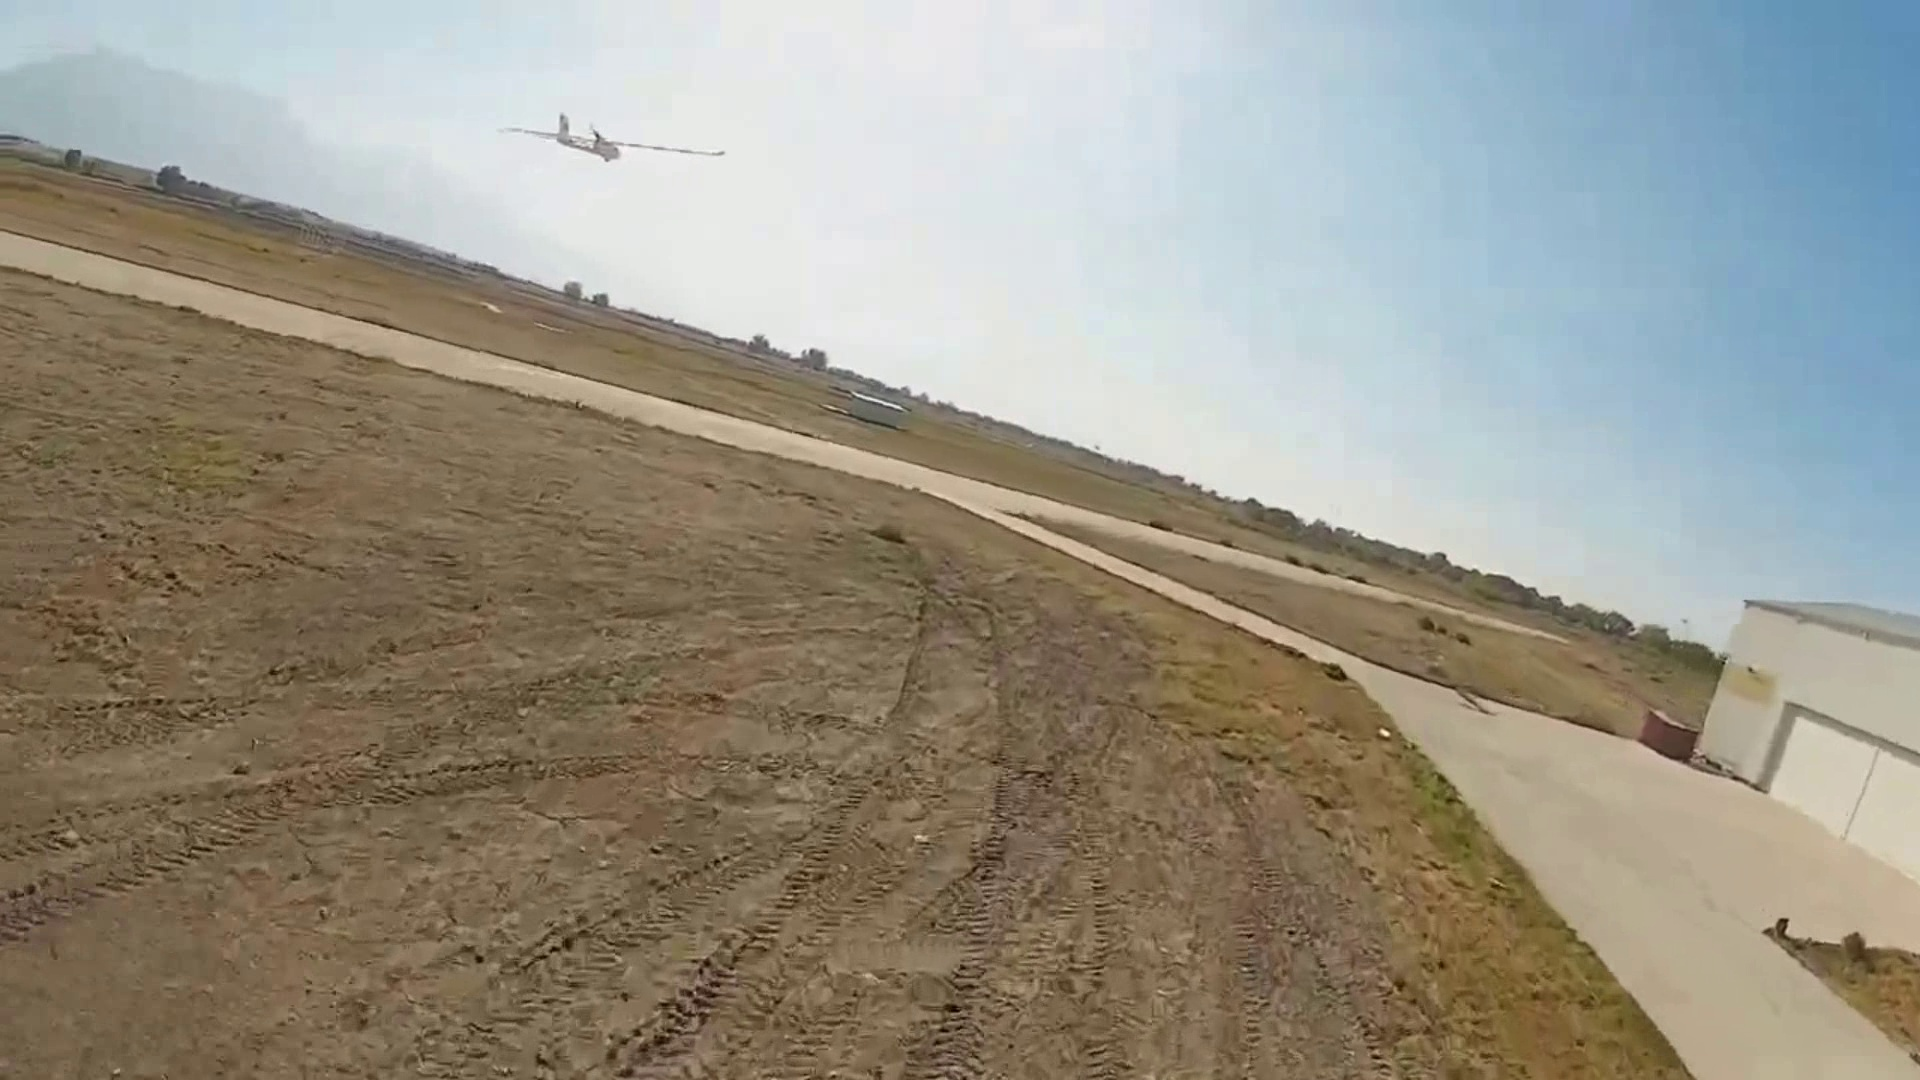airplane: (497, 110, 726, 165)
